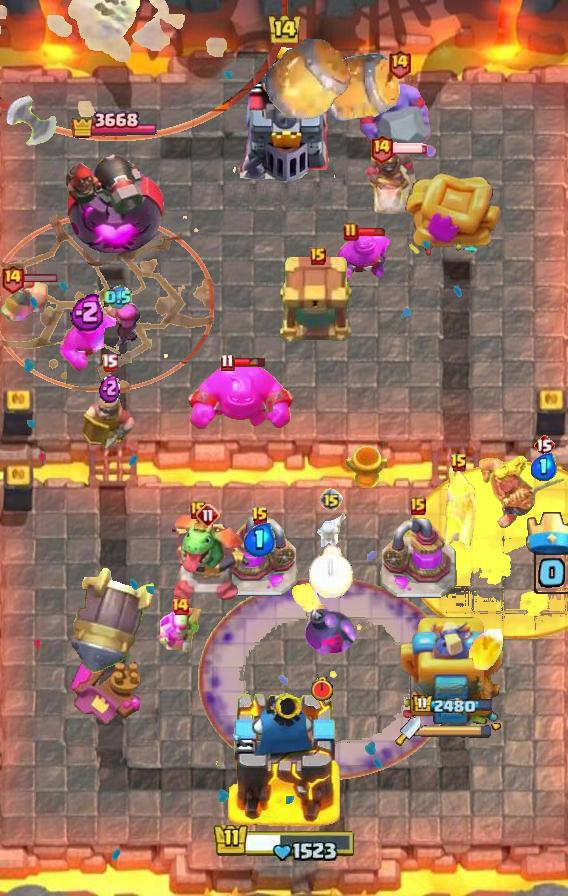archer-queen: (358, 78, 440, 162)
baby-dragon: (286, 581, 358, 655)
bar: (401, 611, 505, 731)
bomb: (279, 256, 357, 344)
bomb-tower: (440, 464, 478, 562)
clock: (212, 819, 356, 861)
clone: (185, 360, 297, 432)
dirt: (262, 37, 352, 125), (318, 53, 400, 125)
earthquake: (82, 377, 136, 449)
electro-spirit: (70, 292, 106, 331), (244, 523, 276, 557), (531, 453, 557, 481), (104, 285, 132, 310), (99, 373, 121, 403)
electro-wizard: (169, 511, 247, 573)
elixir: (310, 546, 354, 599), (310, 676, 334, 702)
emote: (8, 273, 59, 284), (391, 142, 429, 154), (233, 356, 268, 368), (356, 227, 388, 237)
executioner: (0, 279, 50, 325)
freeze: (363, 149, 425, 217)
giant-snowball: (156, 605, 204, 655)
goblin-hut: (476, 453, 568, 529)
guard: (0, 215, 214, 394)
heal-spirit: (316, 512, 346, 548)
king-tower: (226, 688, 342, 826), (230, 45, 338, 181)
king-tower-bar: (421, 724, 493, 738)
lava-pup: (167, 524, 249, 604)
pekka: (221, 516, 299, 598), (379, 518, 457, 600)
phoenix-egg: (404, 461, 568, 638)
rocket: (198, 577, 454, 781)
royal-ghost: (0, 0, 288, 142)
royal-giant: (0, 95, 58, 157)
selected: (71, 108, 157, 142), (412, 694, 494, 716)
text: (387, 49, 412, 80), (369, 133, 394, 164), (0, 263, 24, 294), (319, 488, 343, 512), (196, 503, 220, 527), (533, 433, 555, 457), (170, 596, 190, 616), (450, 453, 468, 473), (251, 506, 269, 526), (101, 353, 119, 371), (343, 222, 359, 242), (310, 247, 326, 265), (410, 497, 426, 515), (190, 501, 206, 519), (220, 353, 235, 371)
tombstone: (94, 294, 141, 350)
tornado: (331, 232, 395, 286), (60, 314, 116, 372)
tower-bar: (64, 138, 164, 256)
valkyrie: (467, 629, 505, 675)
x-bow: (71, 566, 155, 673)
